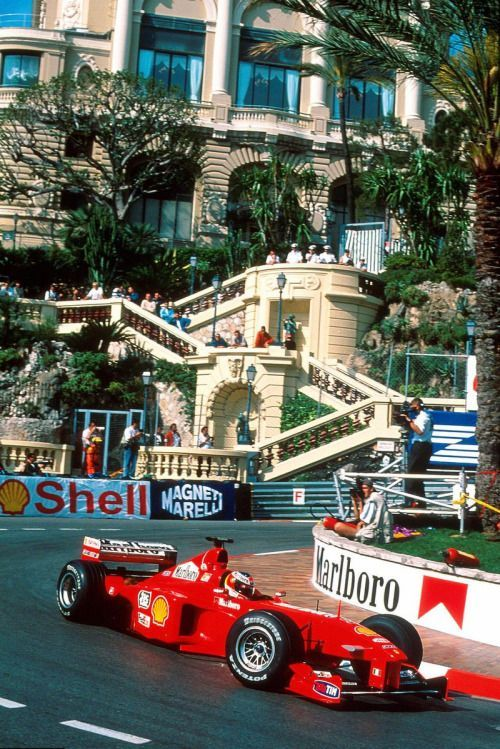car: (53, 528, 456, 718)
